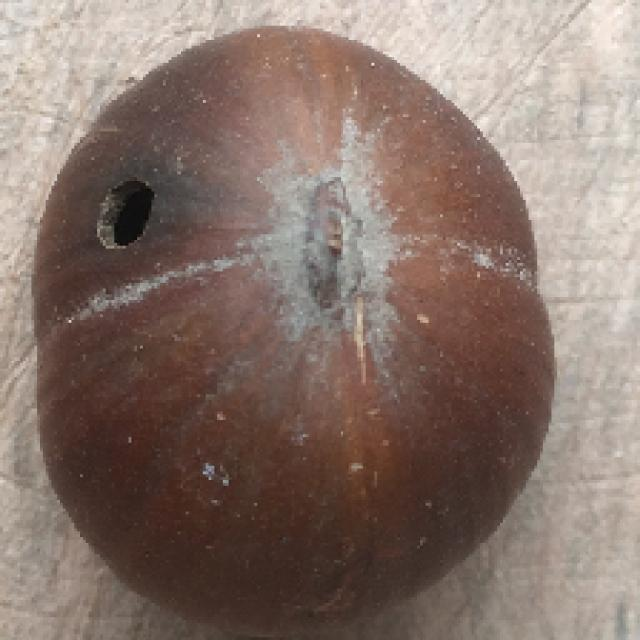damagedHazelnut: (31, 12, 560, 620)
